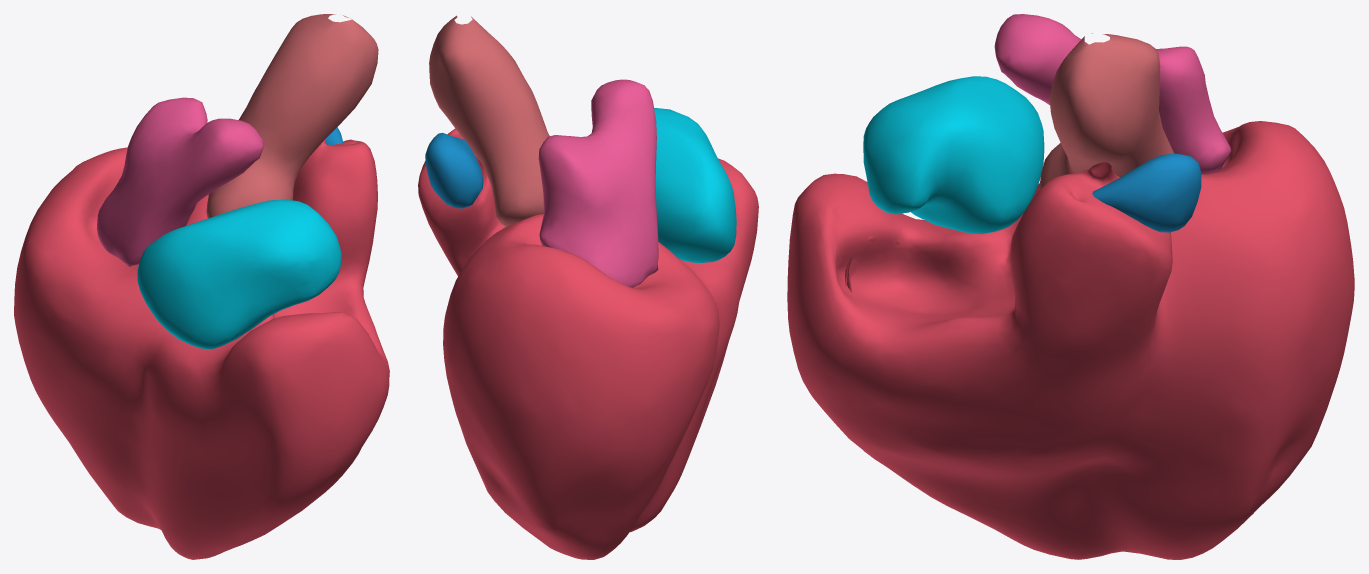
Rendered from frame_73.glb.
3 renders of one model, left to right at view 1: azimuth 30°, elevation 25°; view 2: azimuth 150°, elevation 25°; view 3: azimuth 270°, elevation 25°, orthographic. The views are drawn at different scales.
Visible parts, largest first — view 1: Renderer Node; view 2: Renderer Node; view 3: Renderer Node.
Boxes of the visible parts, x1,y1,x2,y2 form: Renderer Node: (14,14,389,559); Renderer Node: (418,15,758,559); Renderer Node: (787,14,1354,559).
Size of the model in its own units: 105 by 162 by 135.
